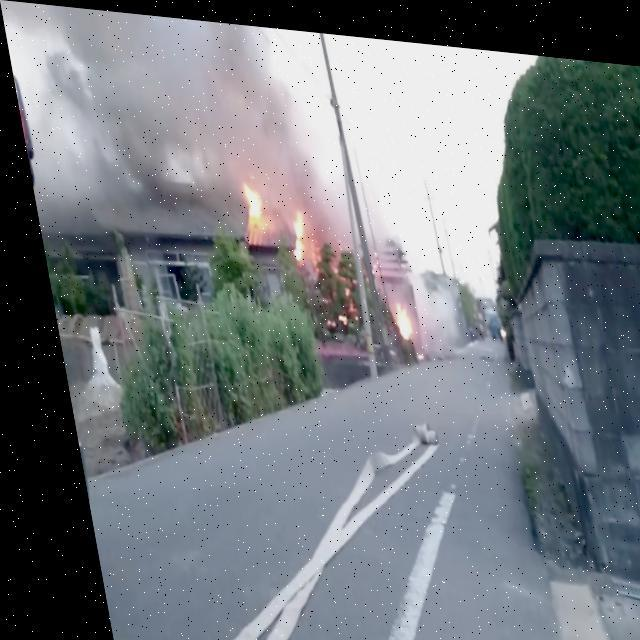Fire: (277, 204, 304, 256), (232, 170, 258, 214), (384, 295, 404, 334)
